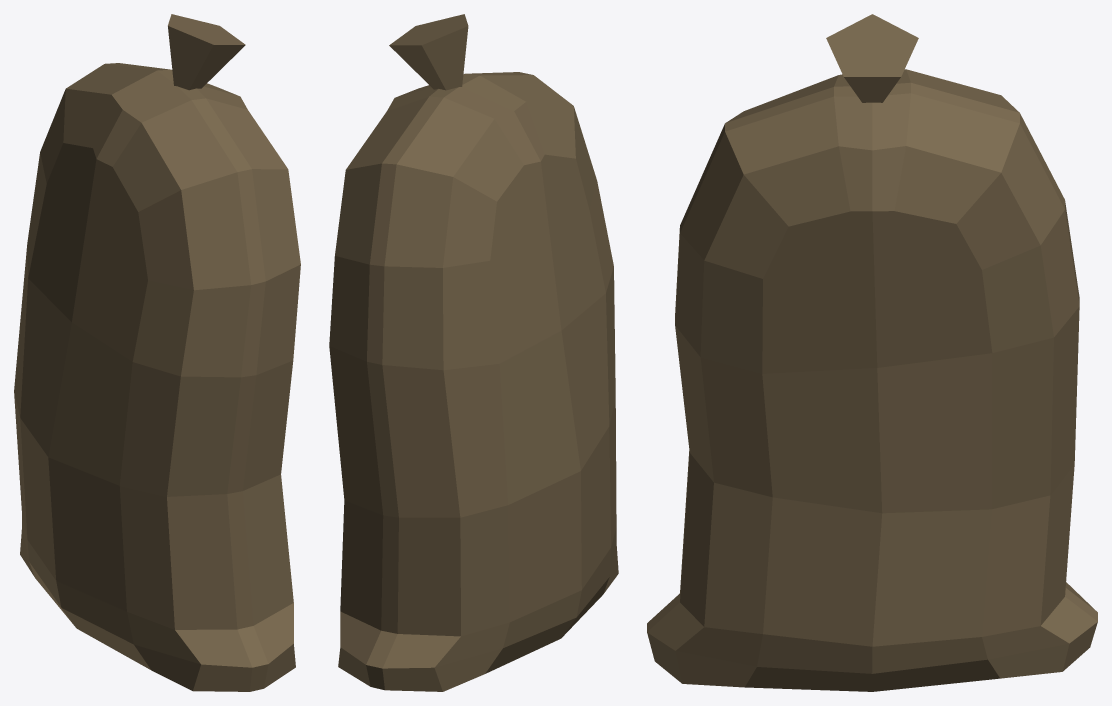
Rendered from Closed_Bag.fbx.
The picture shows the model from 3 angles, left to right: view 1: azimuth 30°, elevation 25°; view 2: azimuth 150°, elevation 25°; view 3: azimuth 270°, elevation 25°; orthographic projection. The views are drawn at different scales.
Visible parts, largest first — view 1: pCone2; view 2: pCone2; view 3: pCone2.
Boxes of the visible parts, left/top/right/bottom form: pCone2: left=14, top=14, right=300, bottom=691; pCone2: left=329, top=14, right=618, bottom=691; pCone2: left=647, top=14, right=1097, bottom=691.
Size of the model in its own units: 15.07 by 41.06 by 25.86.
